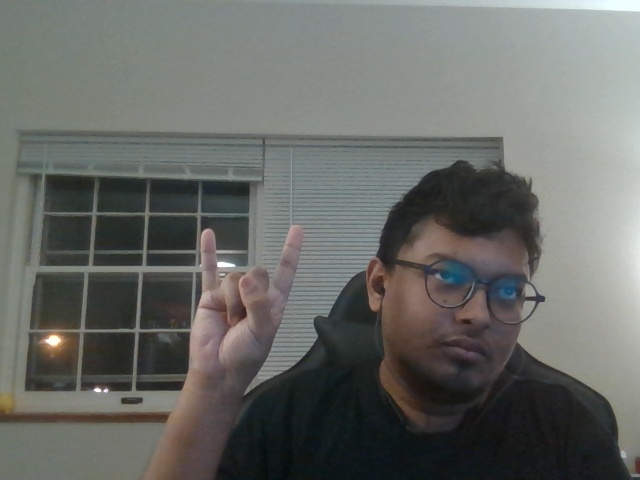ilikeyou: (177, 208, 310, 391)
